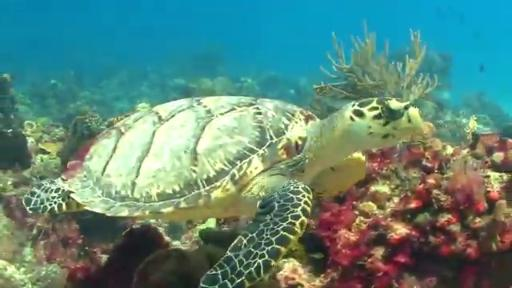Fish: (24, 96, 422, 287)
